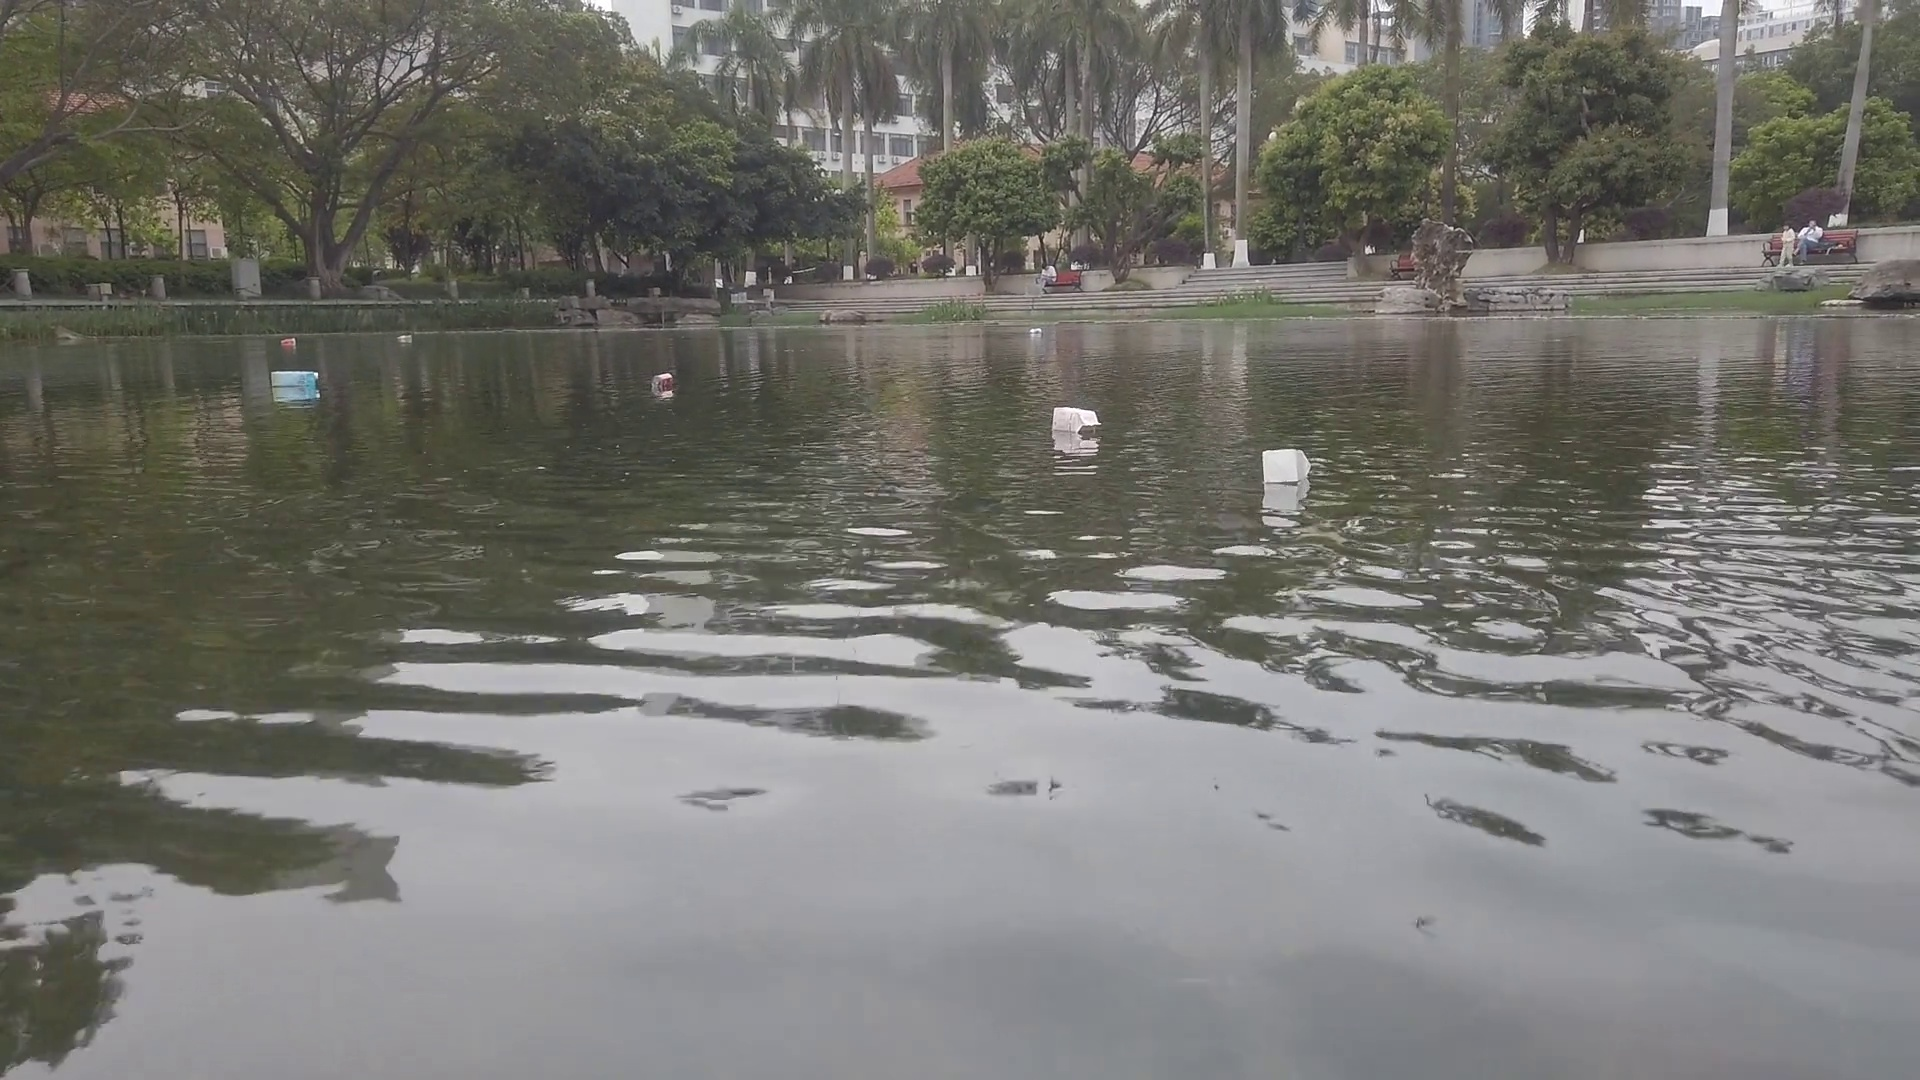bottle: (270, 371, 319, 388), (651, 372, 675, 393), (280, 334, 295, 349), (396, 332, 411, 345), (1031, 328, 1046, 336)
carton: (1261, 440, 1315, 489), (1048, 404, 1101, 439)
